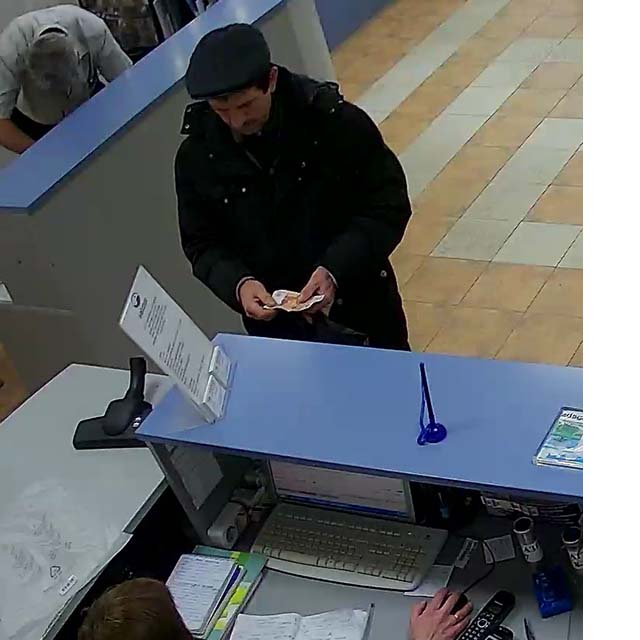banknotes: (263, 288, 325, 313)
